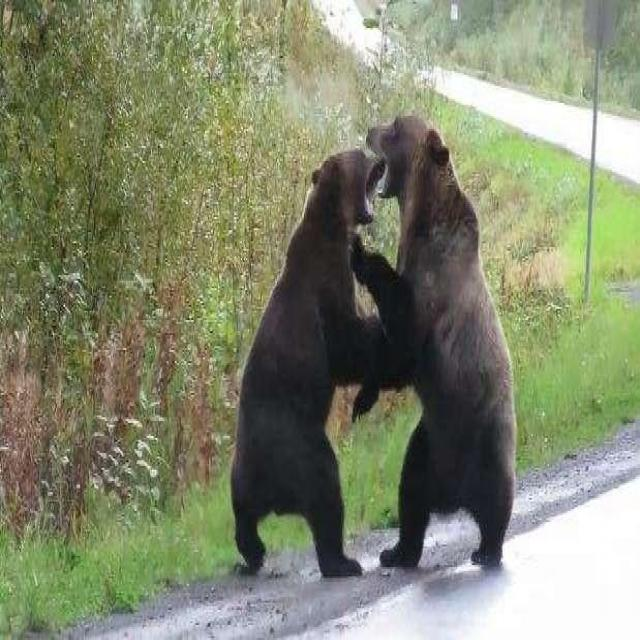Bear: (351, 114, 517, 571), (230, 150, 387, 580)
